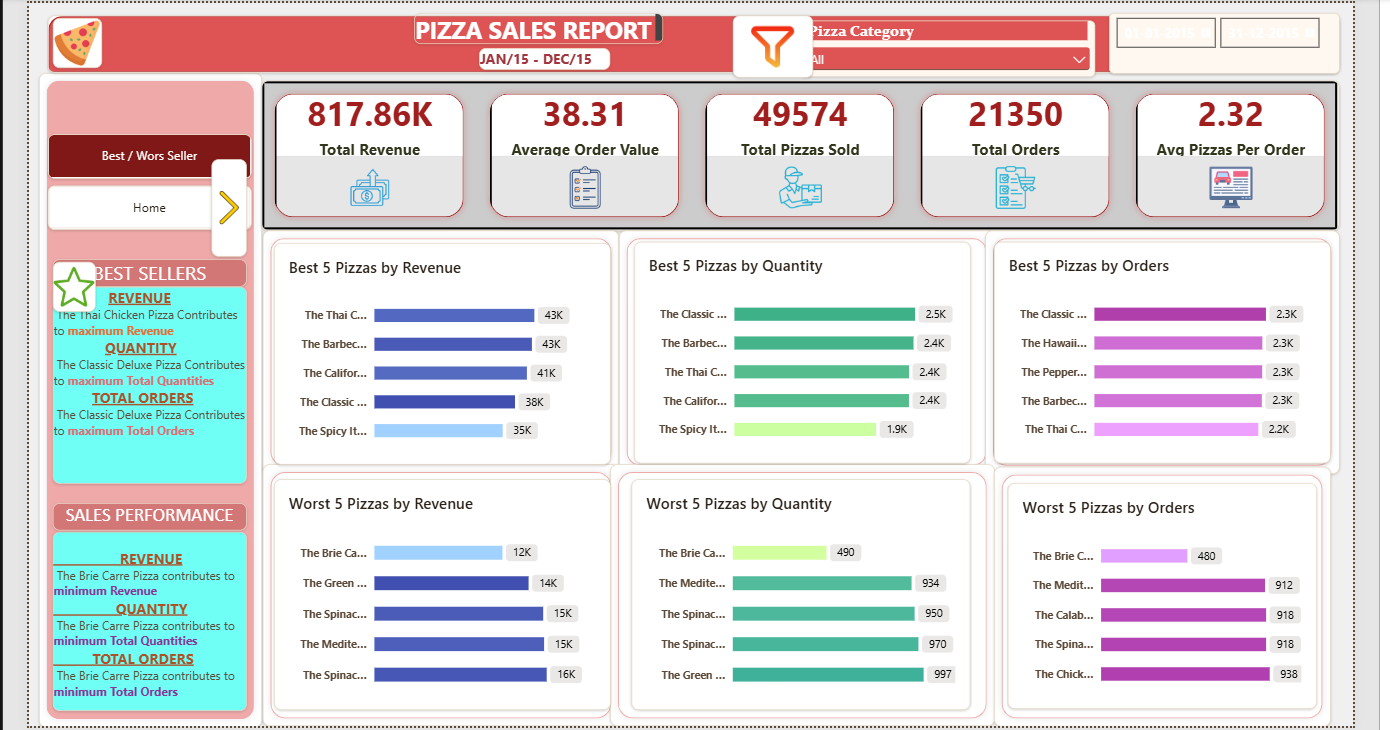

The dashboard page shown, as its layout file describes it:
{"tool":"powerbi","page":{"name":"Best / Wors Seller","canvas":[1500,820],"ordinal":1},"visuals":[{"type":"shape","box":[11.2,78.8,252.5,741.2],"z":0},{"type":"textbox","box":[936.2,153.8,260,36.2],"z":1000},{"type":"cardVisual","fields":{"Data":["pizza_sales.Total Revenue","pizza_sales.Average Order Value","pizza_sales.Total Pizzas Sold","pizza_sales.Total Orders","pizza_sales.Avg Pizzas Per Order"]},"box":[263.8,87.5,1221.2,170],"z":2000},{"type":"shape","box":[21.2,13.8,1463.8,65],"z":3000},{"type":"textbox","box":[435.7,11.4,282.5,35],"z":4000},{"type":"textbox","box":[510,51.4,148.8,25],"z":5000},{"type":"shape","box":[264.3,257.1,404.3,275.7],"z":6000},{"type":"textbox","box":[27.1,290,220,31.4],"z":7000},{"type":"textbox","box":[27.1,321.4,220,222.9],"z":8000},{"type":"textbox","box":[27.1,598.6,220,202.9],"z":9000},{"type":"textbox","box":[27.1,567.1,220,31.4],"z":10000},{"type":"slicer","fields":{"Values":["pizza_sales.pizza_category"]},"box":[874.3,20,334.3,64.3],"z":11000},{"type":"slicer","fields":{"Values":["pizza_sales.order_date"]},"box":[1224.3,11.4,261.4,68.6],"z":12000},{"type":"shape","box":[668.6,257.1,425.7,275.7],"z":13000},{"type":"shape","box":[1084.3,257.1,401.4,275.7],"z":14000},{"type":"shape","box":[264.3,522.9,404.3,297.1],"z":15000},{"type":"shape","box":[658.6,522.9,435.7,297.1],"z":16000},{"type":"barChart","title":"Best 5 Pizzas by Revenue","fields":{"Category":["pizza_sales.pizza_name"],"Y":["pizza_sales.Total Revenue"]},"box":[277.1,271.4,381.4,251.4],"z":17000},{"type":"barChart","title":"Best 5 Pizzas by Quantity","fields":{"Category":["pizza_sales.pizza_name"],"Y":["Sum(pizza_sales.quantity)"]},"box":[685.7,270,381.4,251.4],"z":18000},{"type":"barChart","title":"Best 5 Pizzas by Quantity","fields":{"Category":["pizza_sales.pizza_name"],"Y":["pizza_sales.Total Orders"]},"box":[1094.3,270,381.4,251.4],"z":19000},{"type":"barChart","title":"Worst 5 Pizzas by Revenue","fields":{"Category":["pizza_sales.pizza_name"],"Y":["pizza_sales.Total Revenue"]},"box":[277.1,540,381.4,261.4],"z":20000},{"type":"barChart","title":"Worst 5 Pizzas by Quantity","fields":{"Category":["pizza_sales.pizza_name"],"Y":["Sum(pizza_sales.quantity)"]},"box":[682.9,540,384.3,261.4],"z":21000},{"type":"shape","box":[1094.3,525.7,381.4,294.3],"z":22000},{"type":"barChart","title":"Worst 5 Pizzas by Orders","fields":{"Category":["pizza_sales.pizza_name"],"Y":["pizza_sales.Total Orders"]},"box":[1110,544.3,350,255.7],"z":23000},{"type":"pageNavigator","box":[21.4,207.1,231.4,50],"z":24000},{"type":"pageNavigator","box":[21.4,148.6,231.4,50],"z":25000},{"type":"image","box":[207.1,177.1,40,110],"z":26000},{"type":"image","box":[27.1,17.1,55.7,57.1],"z":27000},{"type":"image","box":[797.1,14.3,91.4,70],"z":28000},{"type":"image","box":[27.1,292.9,48.6,57.1],"z":29000}]}

Visuals, with their boxes on the page's 1500x820 design canvas (x1, y1, x2, y2). These are canvas units, not pixel positions in the 1390x730 screenshot, which may show the page scaled, cropped or inside an application window:
shape: 11/79/264/820
textbox: 936/154/1196/190
cardVisual - pizza_sales.Total Revenue x pizza_sales.Average Order Value: 264/88/1485/258
shape: 21/14/1485/79
textbox: 436/11/718/46
textbox: 510/51/659/76
shape: 264/257/669/533
textbox: 27/290/247/321
textbox: 27/321/247/544
textbox: 27/599/247/802
textbox: 27/567/247/598
slicer - pizza_sales.pizza_category: 874/20/1209/84
slicer - pizza_sales.order_date: 1224/11/1486/80
shape: 669/257/1094/533
shape: 1084/257/1486/533
shape: 264/523/669/820
shape: 659/523/1094/820
"Best 5 Pizzas by Revenue" barChart: 277/271/658/523
"Best 5 Pizzas by Quantity" barChart: 686/270/1067/521
"Best 5 Pizzas by Quantity" barChart: 1094/270/1476/521
"Worst 5 Pizzas by Revenue" barChart: 277/540/658/801
"Worst 5 Pizzas by Quantity" barChart: 683/540/1067/801
shape: 1094/526/1476/820
"Worst 5 Pizzas by Orders" barChart: 1110/544/1460/800
pageNavigator: 21/207/253/257
pageNavigator: 21/149/253/199
image: 207/177/247/287
image: 27/17/83/74
image: 797/14/888/84
image: 27/293/76/350
